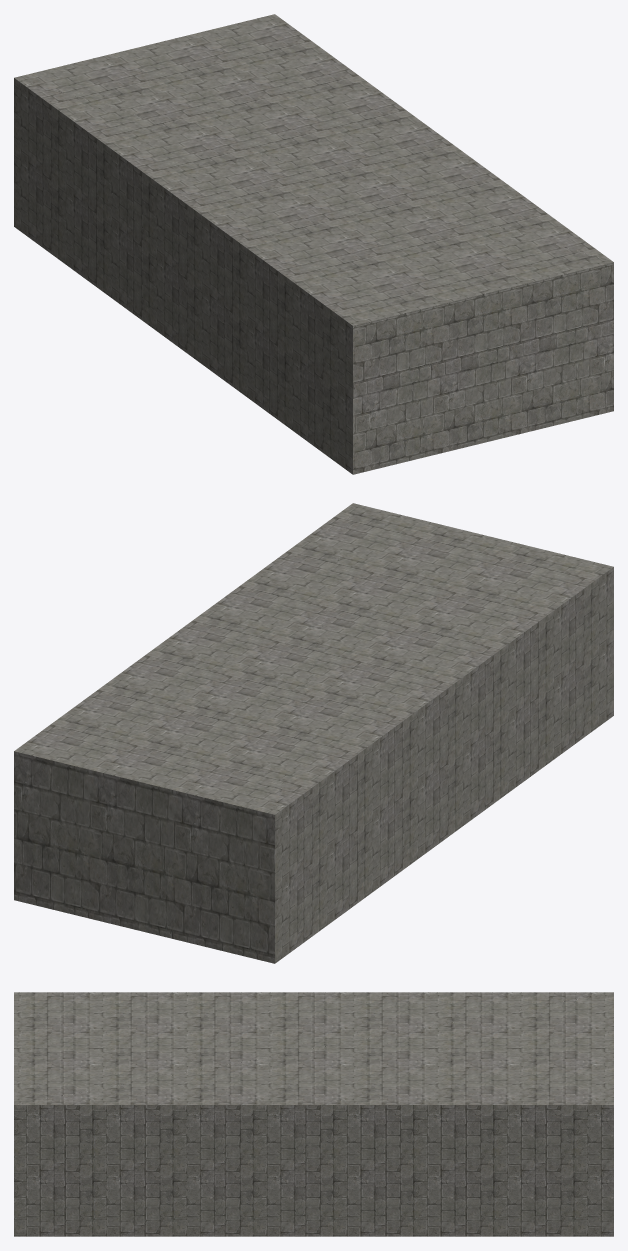
File: unity_dungeon_road01.FBX
3 views of the same model, one above another, from view 1: azimuth 30°, elevation 25°; view 2: azimuth 150°, elevation 25°; view 3: azimuth 270°, elevation 25° (orthographic). The views are drawn at different scales.
Parts seen in each view (by area): view 1: unity_dungeon_road01; view 2: unity_dungeon_road01; view 3: unity_dungeon_road01.
Part boxes in pixels (x1,y1,x2,y2): unity_dungeon_road01: [14, 14, 613, 474]; unity_dungeon_road01: [14, 503, 613, 963]; unity_dungeon_road01: [14, 992, 613, 1236].
Bounding box in the file's own units: 10.8 × 5.89 × 24.3.
